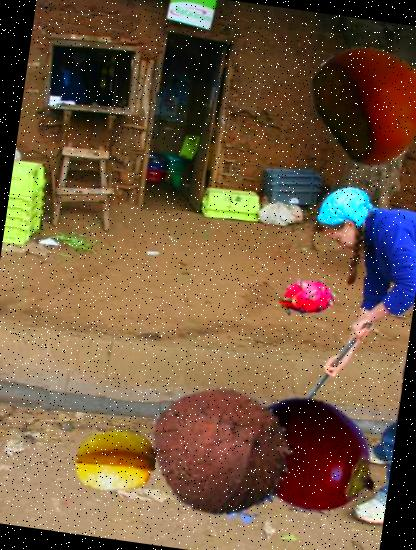Carambula: (67, 413, 161, 507)
Cocos: (139, 368, 307, 536)
Nut: (306, 31, 416, 169)
Pitahaya: (276, 264, 338, 326)
Tamarillo: (235, 378, 390, 534)
